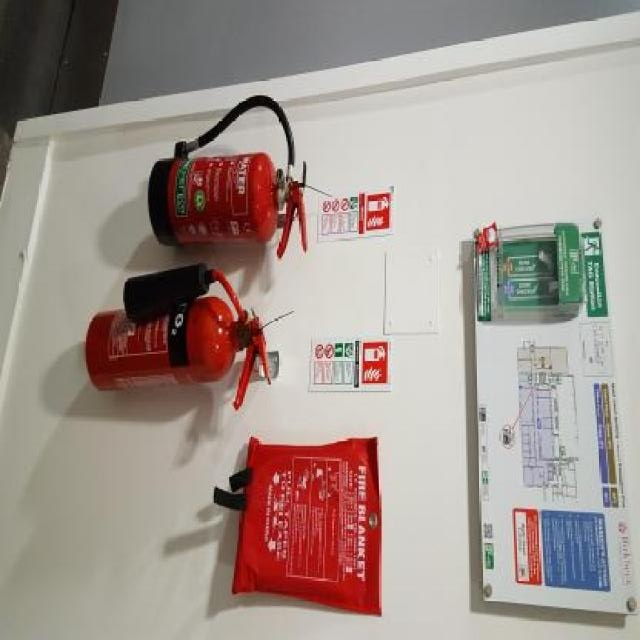fire extinguisher: (150, 91, 310, 267), (87, 264, 271, 408)
